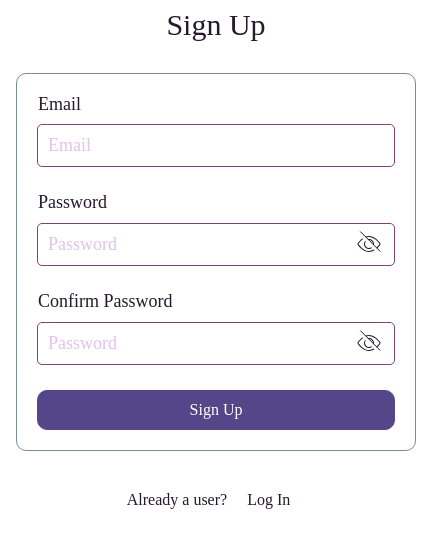
AuthForm Component › handles cofirmation password validation
Type "test@example.com" into the field labelled "Email" at [216, 146], box [38, 125, 394, 166]
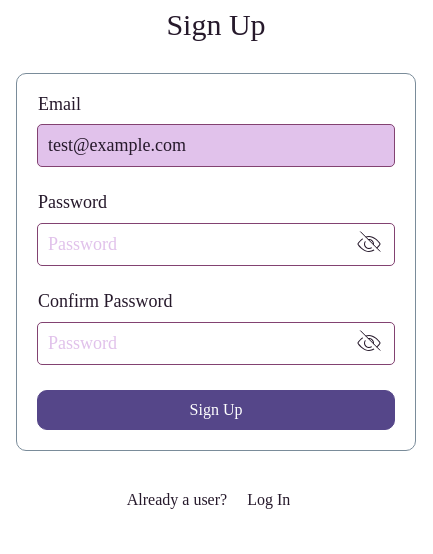
Type "password123!" into the password field labelled "Password" at [191, 244], box [38, 224, 344, 265]
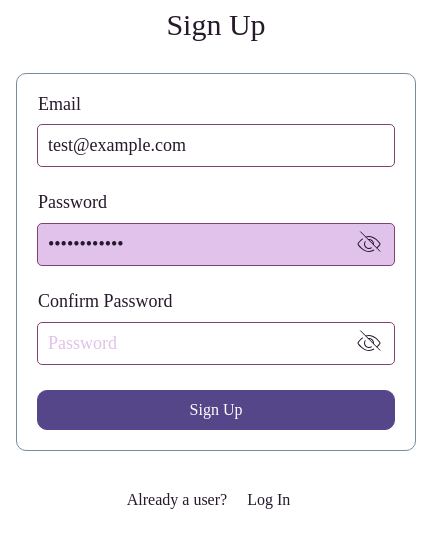
Type "password123" into the password field labelled "Confirm Password" at [191, 343], box [38, 323, 344, 364]
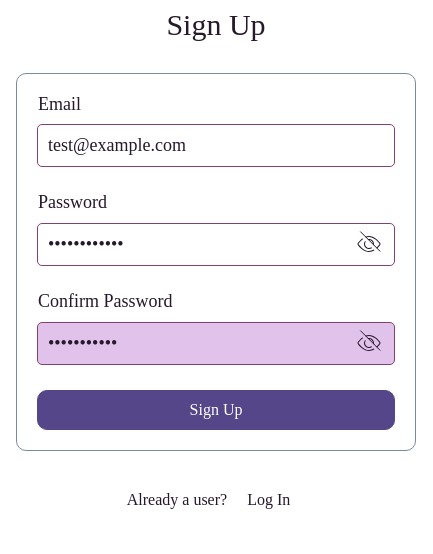
Click the button "Sign Up" at [216, 410], box [37, 390, 395, 430]
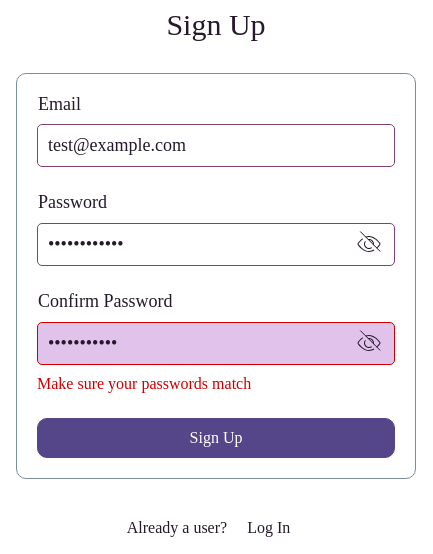
Check: the text "Make sure your passwords match" is shown, box [37, 375, 251, 392]
